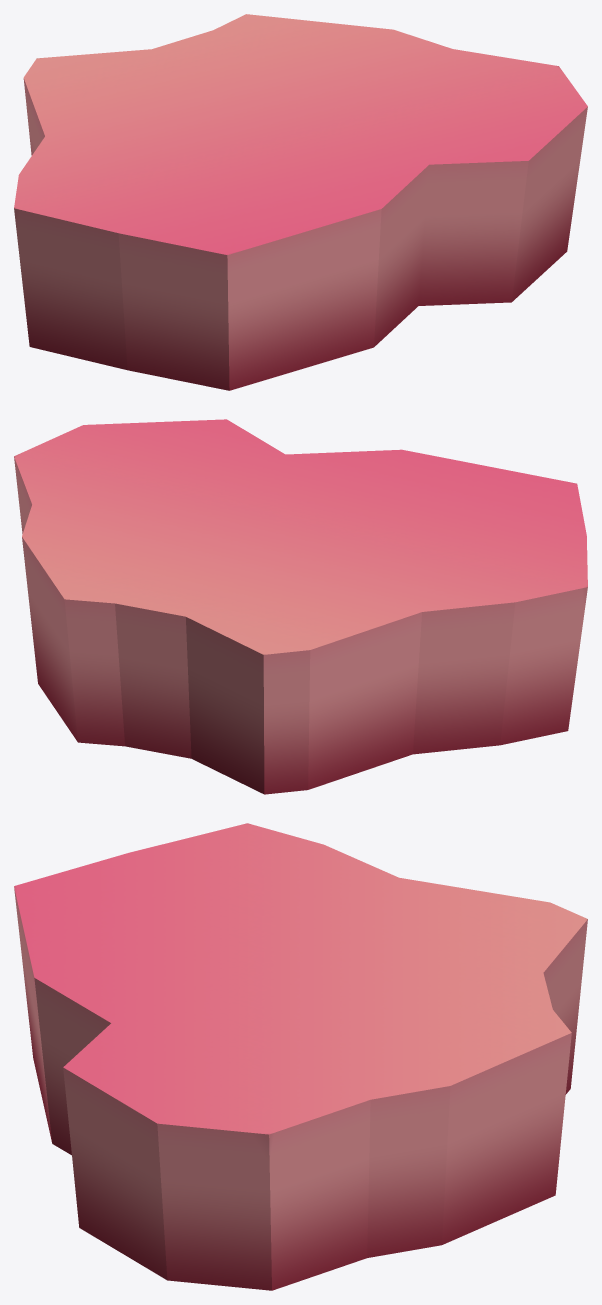
File: Sunset_Ground_003.FBX
The picture shows the model from 3 angles, top to bottom: view 1: azimuth 30°, elevation 25°; view 2: azimuth 150°, elevation 25°; view 3: azimuth 270°, elevation 25°; orthographic projection. The views are drawn at different scales.
Visible parts, largest first — view 1: Sunset_Ground_003; view 2: Sunset_Ground_003; view 3: Sunset_Ground_003.
Part boxes in pixels (left/top/right/bottom): Sunset_Ground_003: left=14, top=14, right=587, bottom=390; Sunset_Ground_003: left=14, top=419, right=587, bottom=794; Sunset_Ground_003: left=14, top=823, right=587, bottom=1290.
Bounding box in the file's own units: 1853 × 461 × 1444.
1 material, 1 textured.
